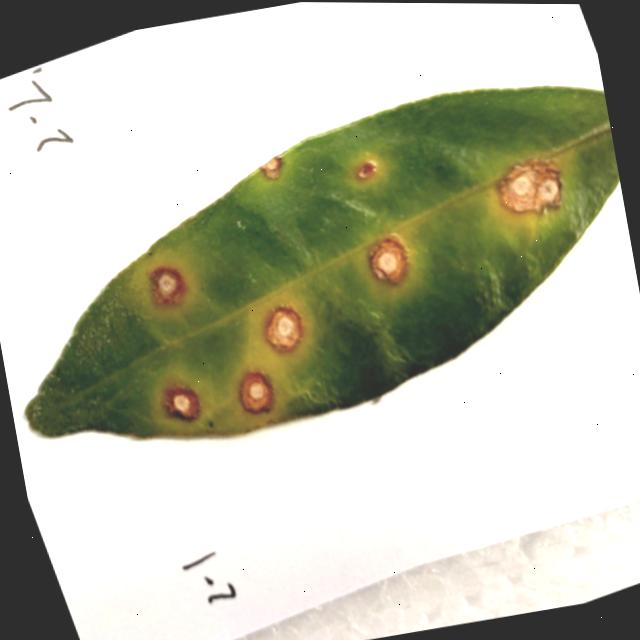antracnose: (24, 85, 619, 436), (498, 158, 559, 211), (368, 235, 406, 282), (264, 306, 301, 350), (147, 264, 185, 305), (239, 371, 270, 411), (162, 386, 198, 419), (259, 155, 280, 177), (356, 161, 374, 177)
